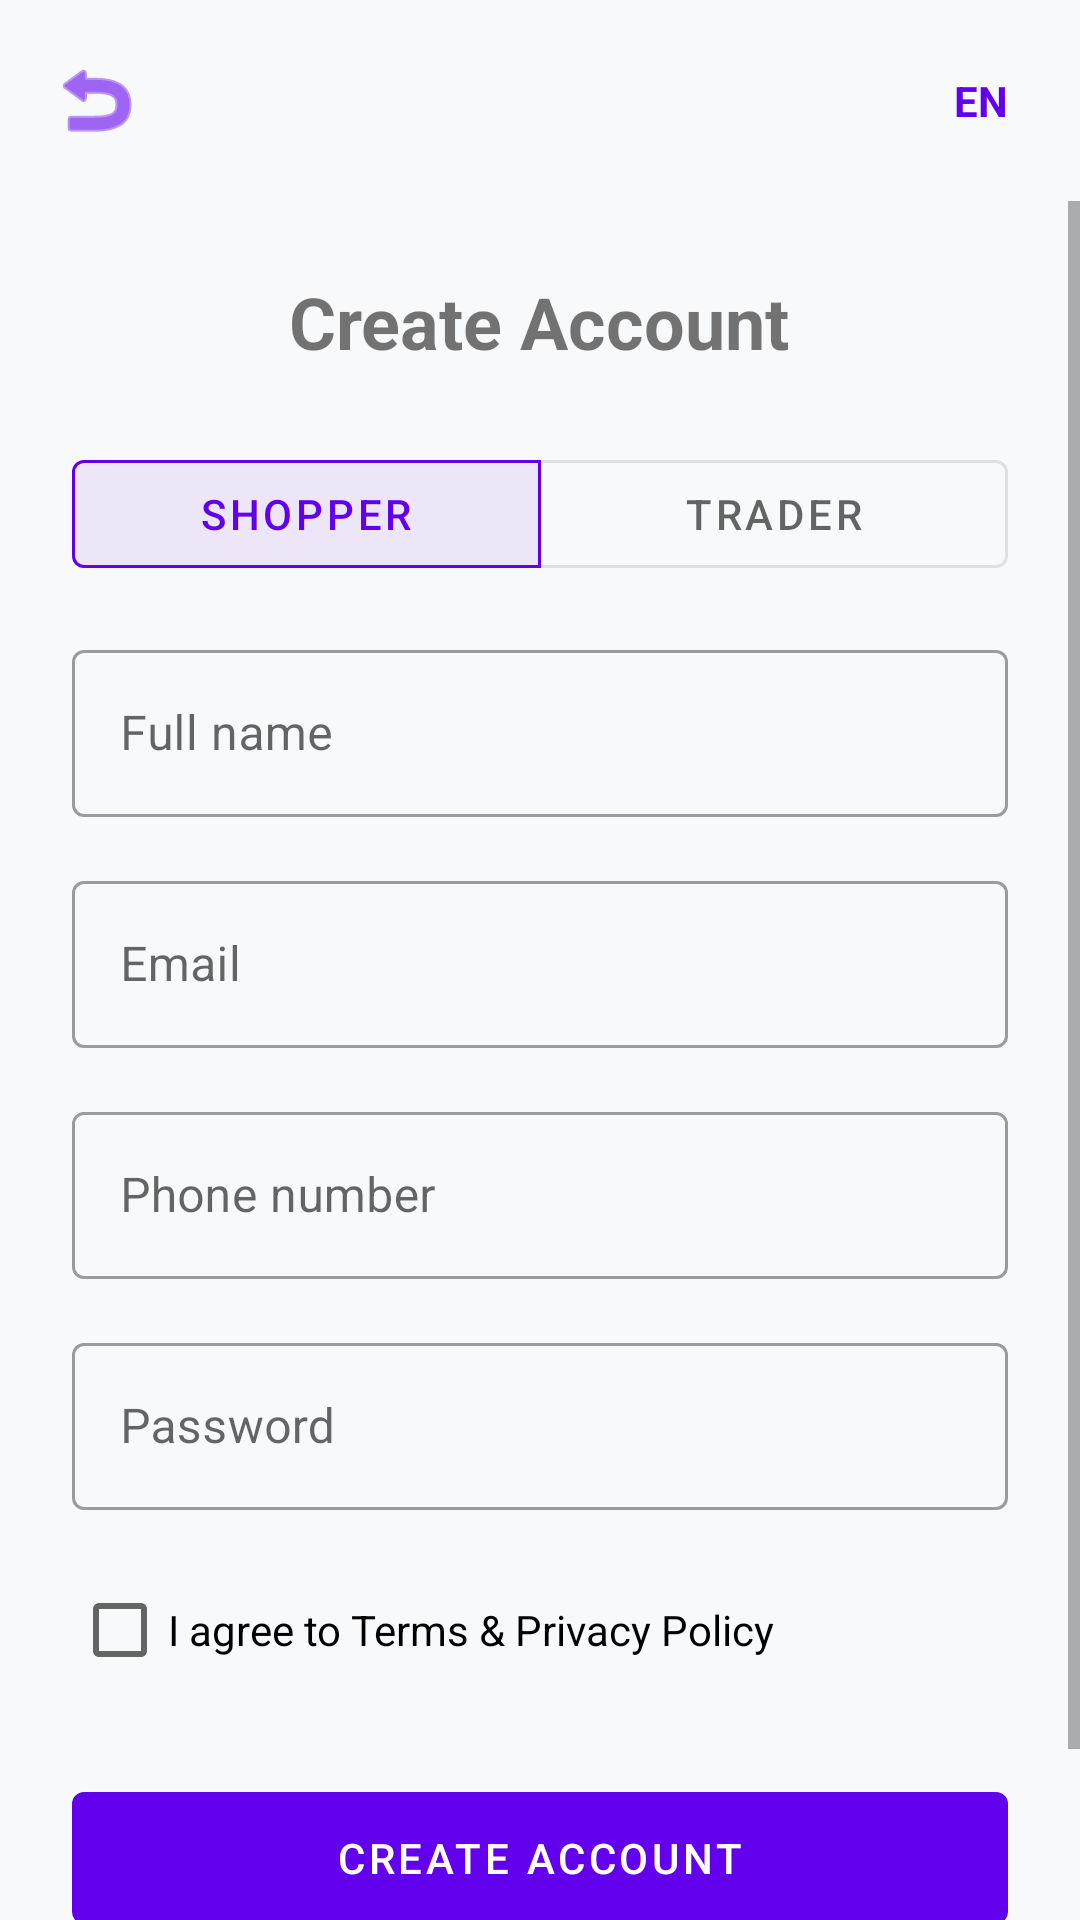

Where to tap for icons on this 1080px x 1920px app screen, as [x,y]:
Back: [97,100]
